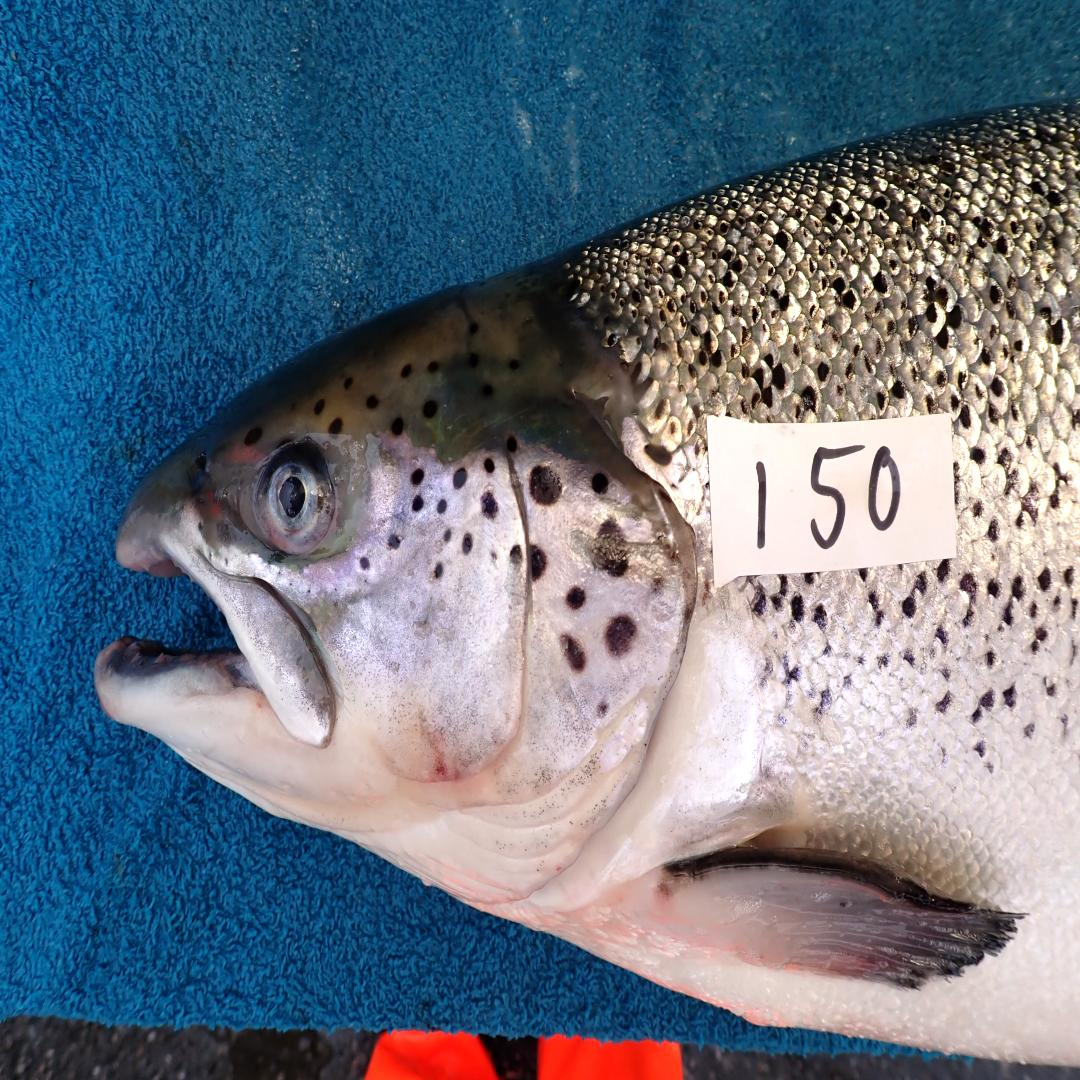roi: (332, 431, 694, 917)
